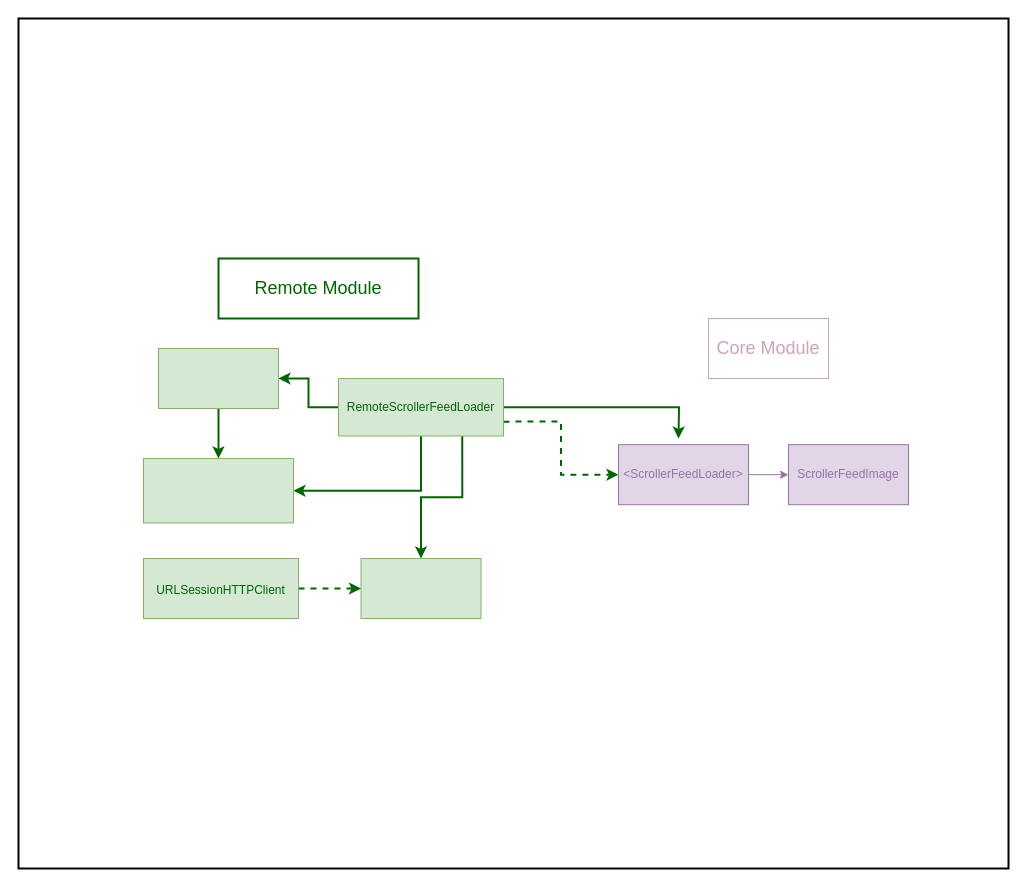
This 1026x886 diagram has some shape labels left out. The shapes that lost their labels are listed below. From the top down, each one's box as (x1, y1, x2, y2) in pixels, then its label:
(158, 348, 278, 408): ScrollerFeedMapper
(142, 458, 294, 523): RemoteScrollerFeedImage
(360, 558, 481, 618): <HTTPClient>
